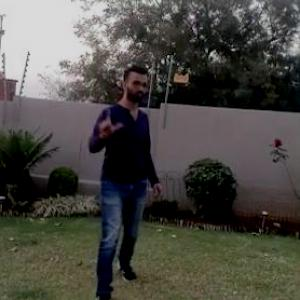land_hand: (90, 96, 124, 139)
